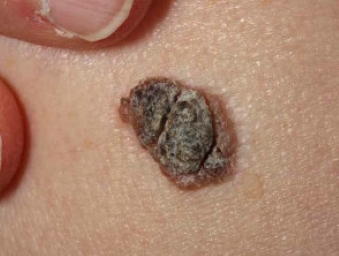seborrheic keratosis: (99, 61, 251, 202)
